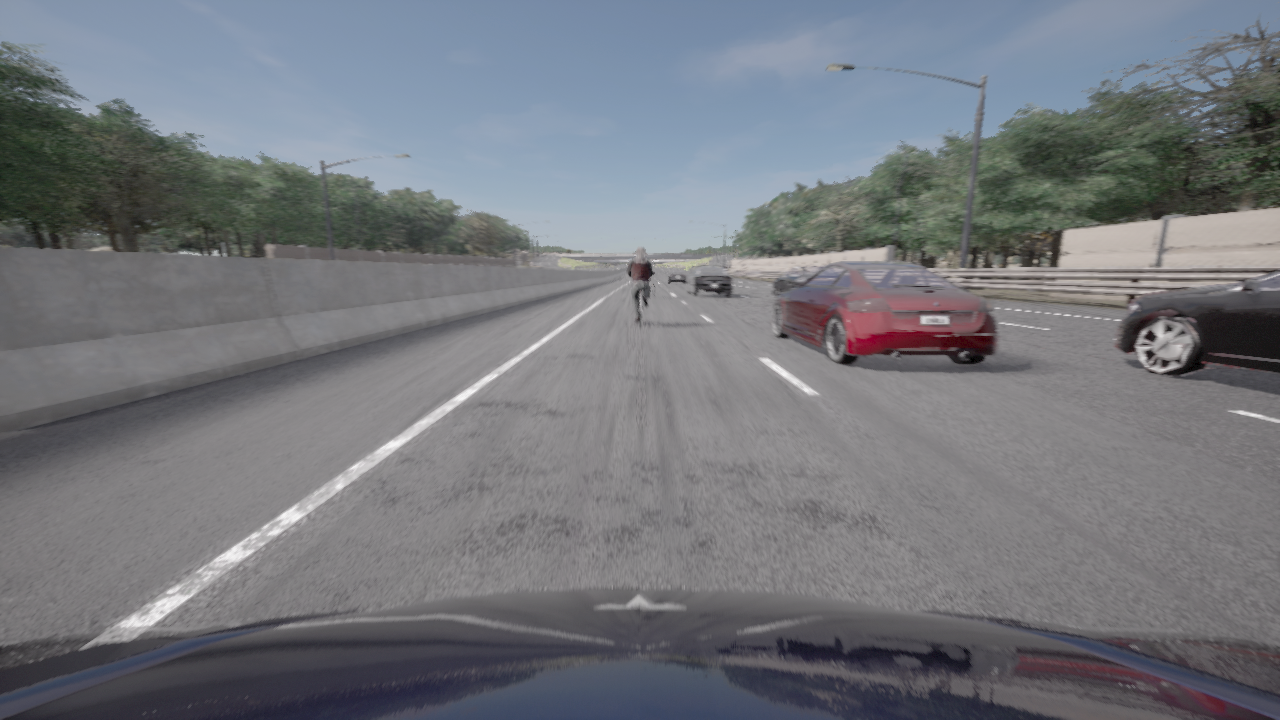cyclist: (0, 588, 1279, 719), (771, 261, 998, 364), (1115, 270, 1279, 375), (773, 265, 824, 297), (687, 264, 731, 296), (634, 291, 643, 327), (666, 270, 686, 284), (648, 280, 653, 297)
